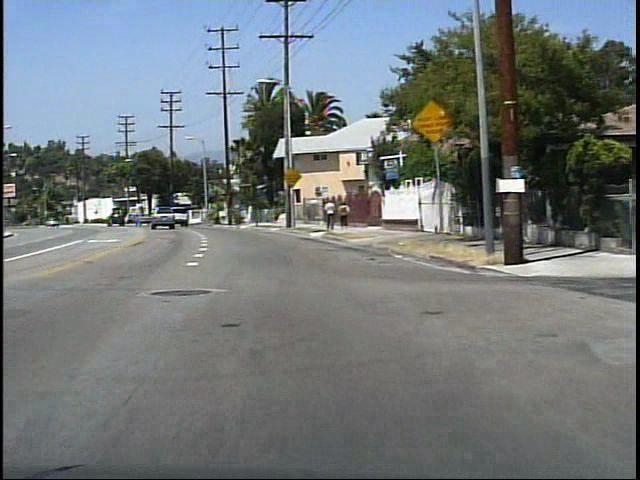person: (321, 196, 337, 233), (336, 200, 350, 230)
